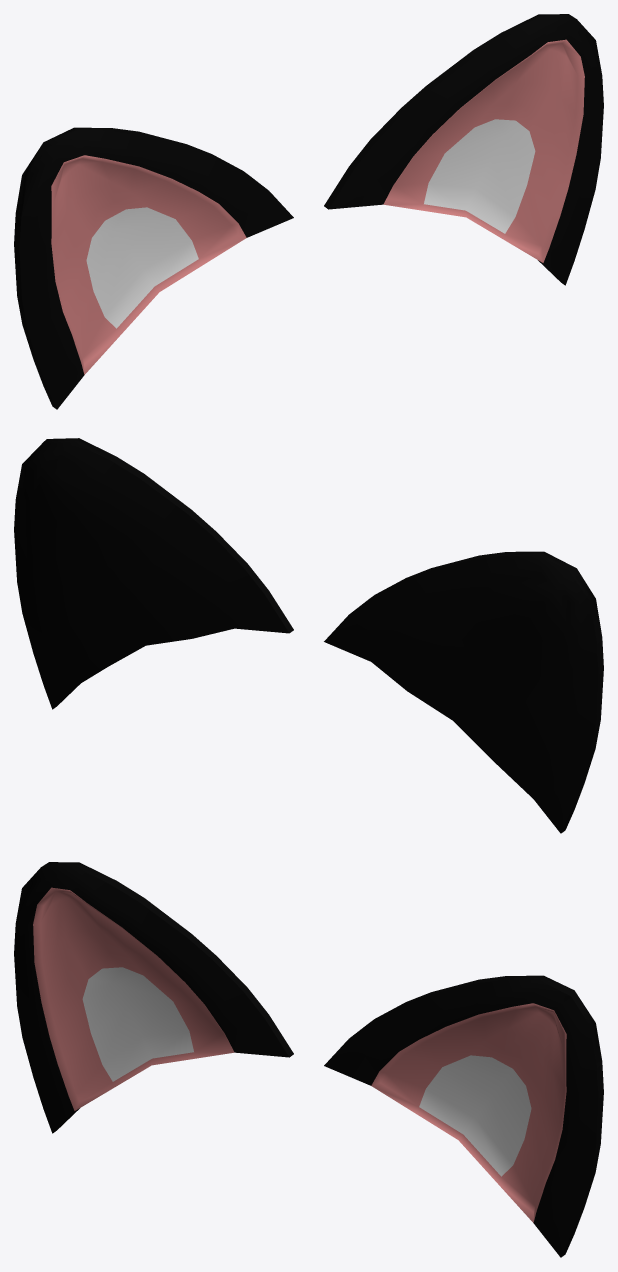
The model's file is cat ears.fbx.
The picture shows the model from 3 angles, top to bottom: view 1: azimuth 30°, elevation 25°; view 2: azimuth 150°, elevation 25°; view 3: azimuth 330°, elevation 25°; orthographic projection.
Visible parts, largest first — view 1: cat_ears:pCylinder7; view 2: cat_ears:pCylinder7; view 3: cat_ears:pCylinder7.
Boxes of the visible parts, bbox=[...] form: cat_ears:pCylinder7: bbox=[14, 14, 603, 409]; cat_ears:pCylinder7: bbox=[14, 438, 603, 833]; cat_ears:pCylinder7: bbox=[14, 862, 603, 1257].
Bounding box in the file's own units: 516 × 230 × 34.04.
